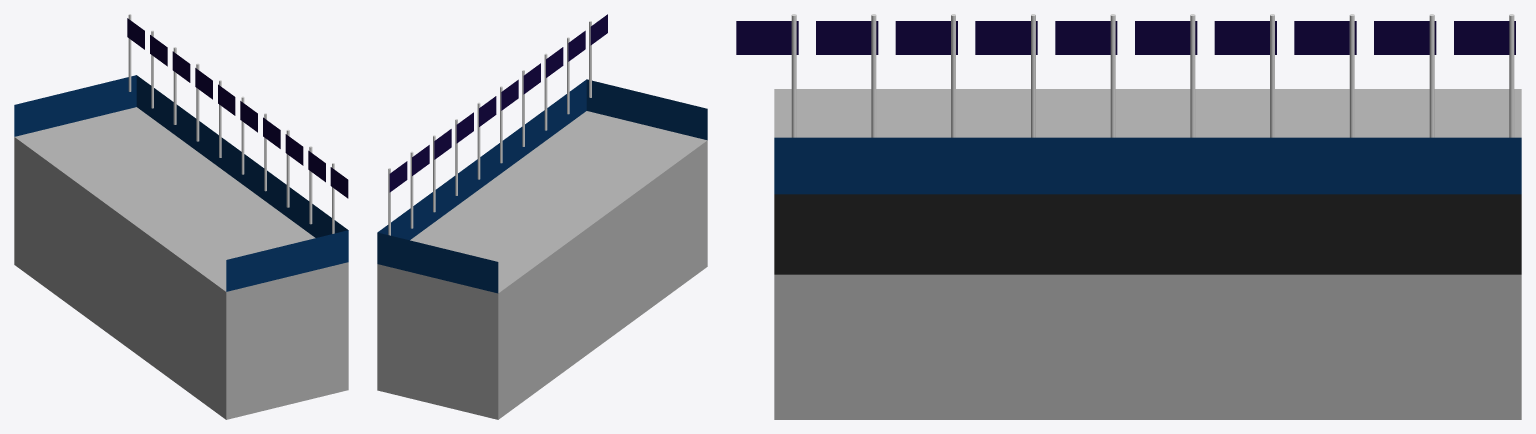
The model's file is commentary.glb.
3 renders of one model, left to right at view 1: azimuth 30°, elevation 25°; view 2: azimuth 150°, elevation 25°; view 3: azimuth 270°, elevation 25°, orthographic. The views are drawn at different scales.
Visible parts, largest first — view 1: Cube, Plane, Cylinder; view 2: Cube, Plane, Cylinder; view 3: Cube, Plane, Cylinder.
Part boxes in pixels (x1=…): Cube: x1=14, y1=75, x2=348, y2=419; Plane: x1=127, y1=18, x2=348, y2=198; Cylinder: x1=128, y1=14, x2=334, y2=233; Cube: x1=377, y1=79, x2=707, y2=419; Plane: x1=389, y1=14, x2=607, y2=192; Cylinder: x1=388, y1=21, x2=591, y2=235; Cube: x1=774, y1=89, x2=1521, y2=419; Plane: x1=736, y1=21, x2=1515, y2=54; Cylinder: x1=791, y1=14, x2=1514, y2=137.
Size of the model in its own units: 2 by 3.51 by 6.3.
